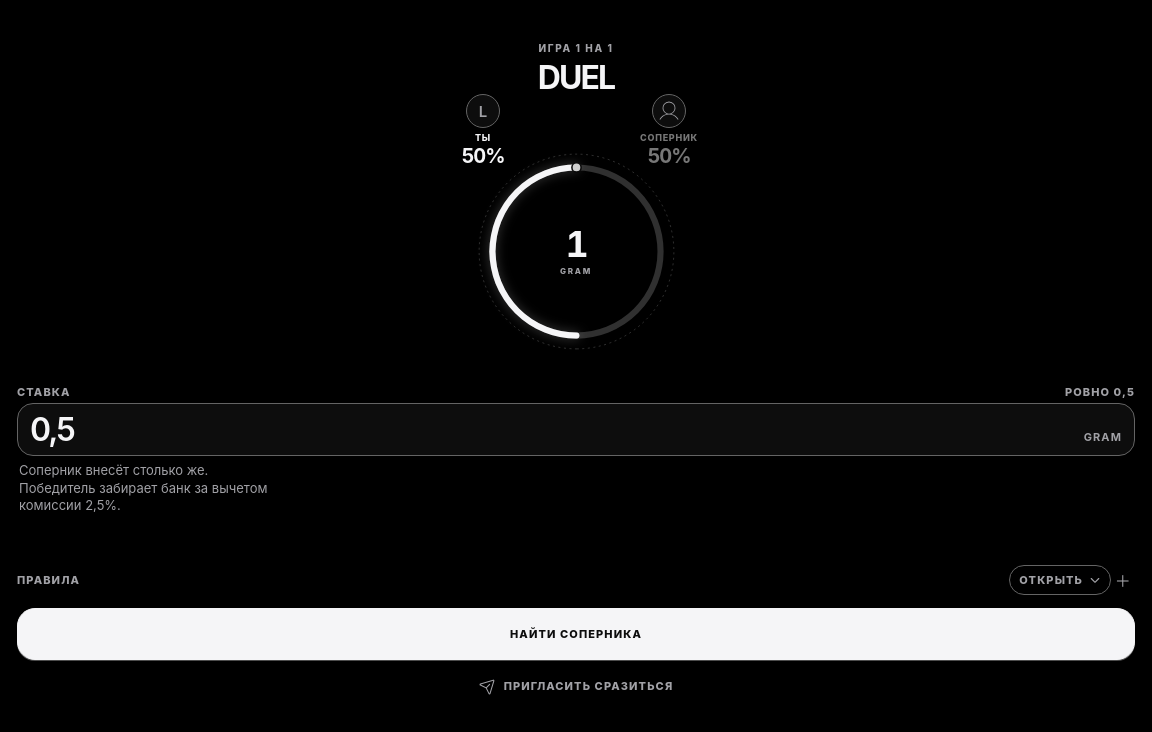
Test: DuelScreen › presents one equal 50/50 rule without probability controls
Check: the field named "Ставка в GRAM" is shown, box [30,410,1084,449]
Check: the text "Соперник внесёт столько же" is shown, box [19,462,267,513]
Click the text "ПРАВИЛА".
click(49, 580)  # box [17,573,80,587]
(page scrolled)
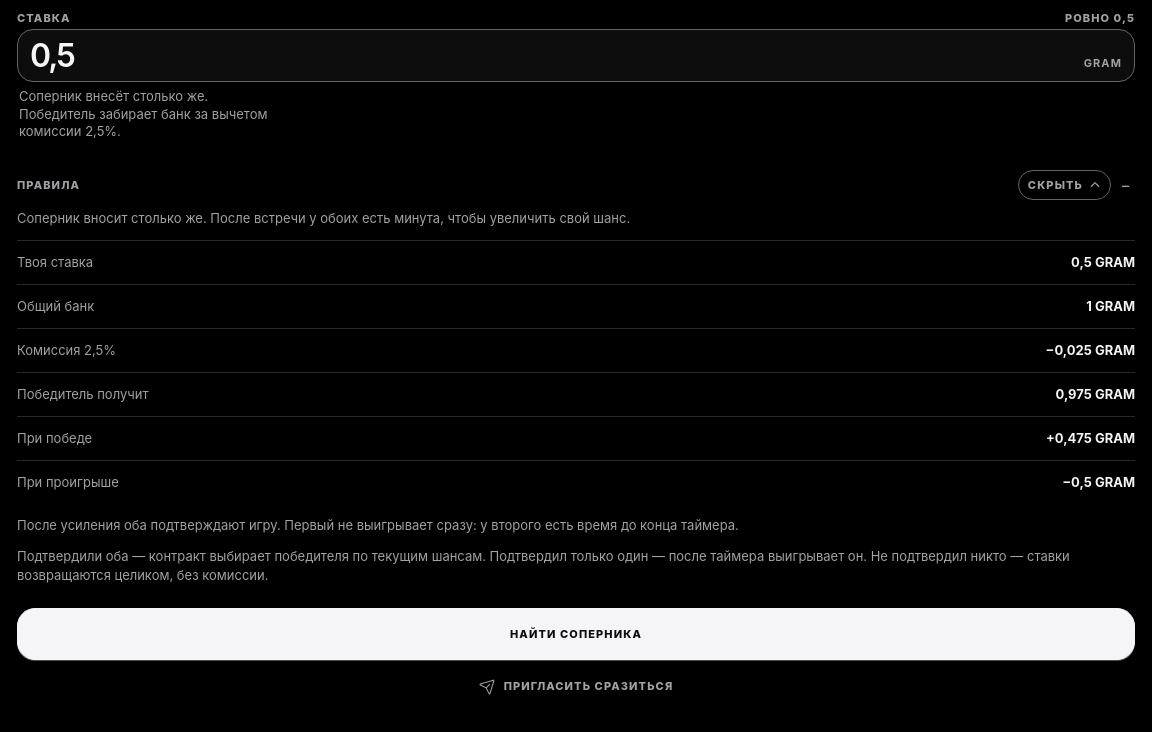
Check: the button "ПРИГЛАСИТЬ СРАЗИТЬСЯ" is shown, box [17,664,1135,708]
Check: the text "Первый не выигрывает сразу" is shown, box [17,517,739,533]
Check: the text "Подтвердил только один — после таймера выигрывает он" is shown, box [17,548,1070,582]
